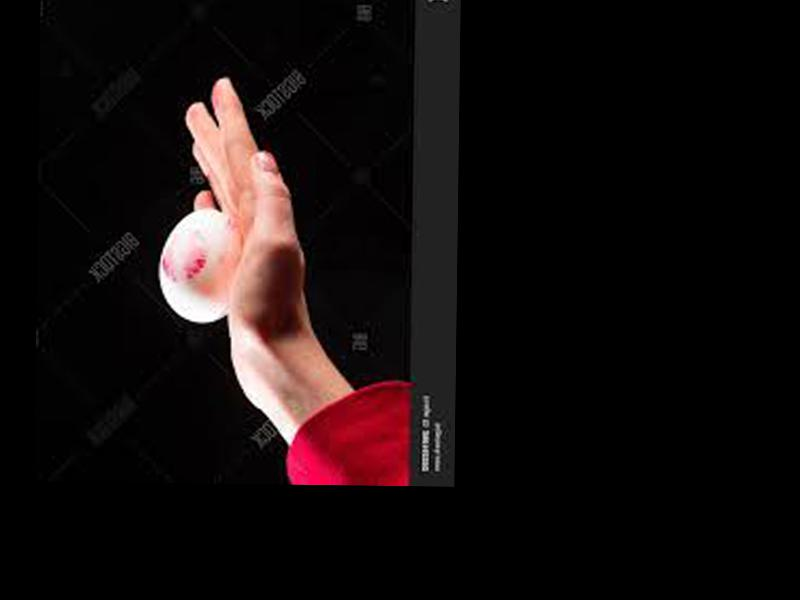Eggs: (158, 211, 235, 324)
